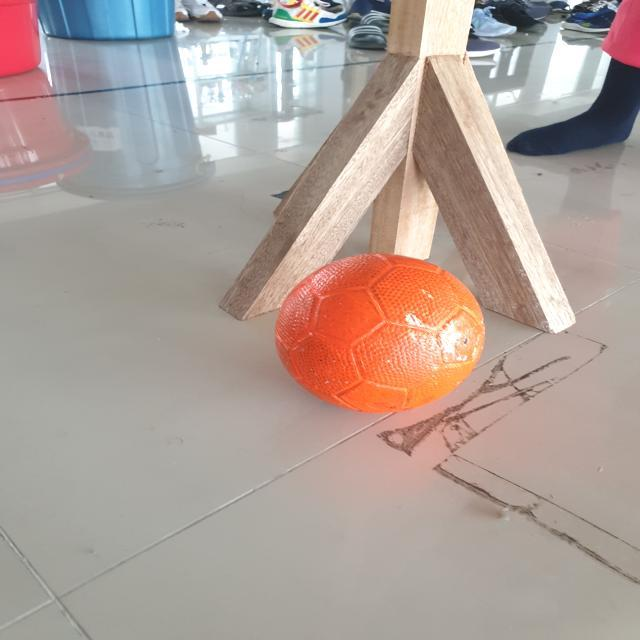bola: (276, 252, 496, 424)
